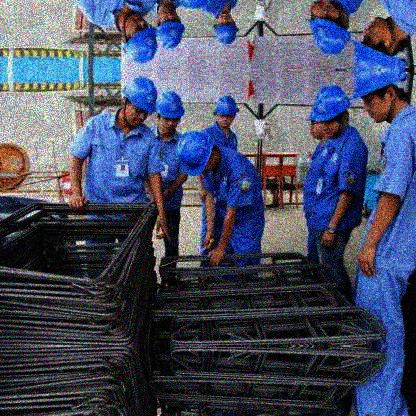helmet: (352, 14, 414, 73), (349, 72, 409, 124), (305, 2, 351, 56), (115, 11, 159, 64), (117, 76, 156, 128), (178, 132, 220, 177), (315, 86, 349, 138), (155, 2, 185, 50), (159, 91, 185, 138), (214, 96, 238, 131), (214, 13, 238, 46), (306, 105, 321, 139)
